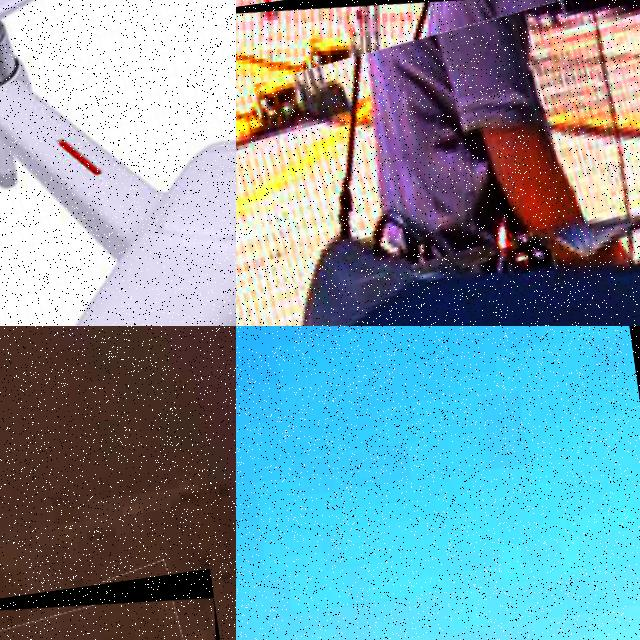0: (0, 569, 236, 640)
drone: (236, 0, 640, 326), (0, 0, 236, 326)
